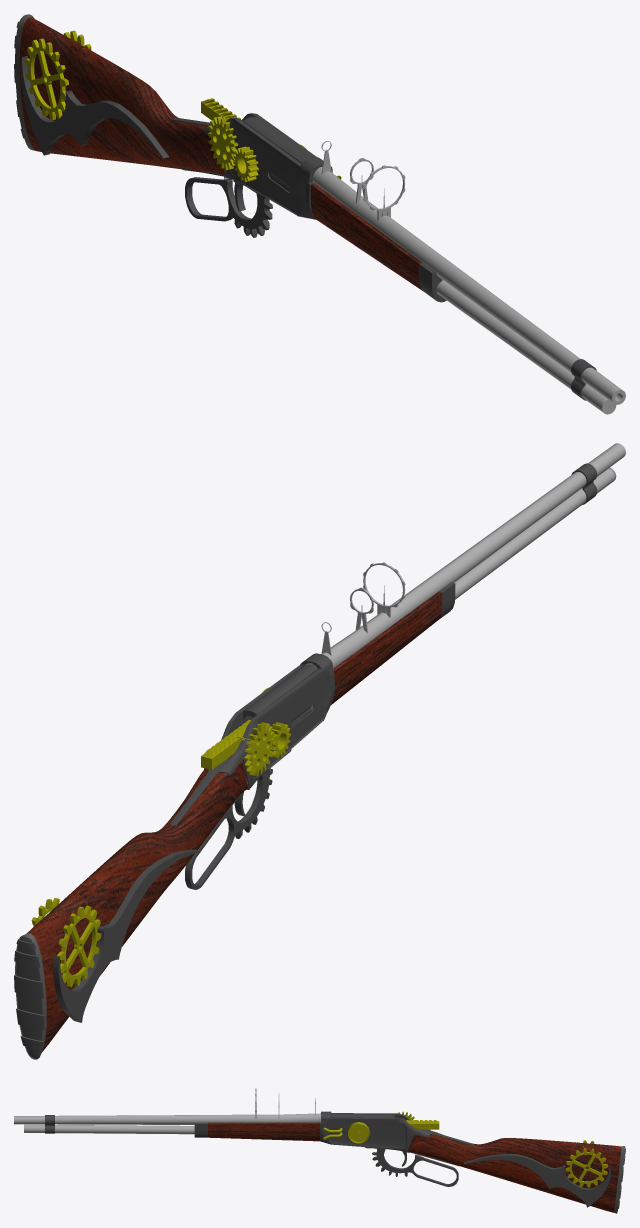
The model's file is steampunkrifle.fbx.
3 views of the same model, one above another, from view 1: azimuth 30°, elevation 25°; view 2: azimuth 150°, elevation 25°; view 3: azimuth 270°, elevation 25° (orthographic). The views are drawn at different scales.
Parts seen in each view (by area): view 1: pCube2, polySurface7, pPlane3, polySurface10, polySurface6, polySurface2, polySurface11, pCube6, pGear2, pCube1, pGear3, polySurface5; view 2: pCube2, polySurface7, pPlane3, polySurface10, polySurface6, polySurface2, polySurface11, pCube6, pGear2, pCube1, pCube10; view 3: pCube2, polySurface7, pPlane3, polySurface6, polySurface13, polySurface2, pCube6, polySurface11, pCylinder3, pCube10, pCube1, polySurface5.
Boxes of the visible parts, x1,y1,x2,y2 form: pCube2: [14, 14, 224, 175]; polySurface7: [312, 166, 625, 404]; pPlane3: [170, 113, 332, 219]; polySurface10: [20, 56, 168, 158]; polySurface6: [310, 183, 423, 291]; polySurface2: [436, 279, 606, 411]; polySurface11: [25, 30, 91, 120]; pCube6: [185, 177, 272, 237]; pGear2: [207, 116, 238, 170]; pCube1: [243, 117, 312, 163]; pGear3: [233, 146, 258, 182]; polySurface5: [419, 262, 446, 302]; pCube2: [14, 755, 247, 1059]; polySurface7: [305, 443, 625, 668]; pPlane3: [170, 653, 334, 825]; polySurface10: [52, 849, 200, 1022]; polySurface6: [331, 591, 442, 704]; polySurface2: [310, 468, 614, 707]; polySurface11: [27, 898, 101, 987]; pCube6: [185, 768, 272, 889]; pGear2: [244, 722, 275, 776]; pCube1: [243, 665, 317, 720]; pCube10: [201, 720, 250, 769]; pCube2: [407, 1129, 625, 1213]; polySurface7: [14, 1113, 320, 1124]; pPlane3: [320, 1111, 473, 1152]; polySurface6: [208, 1122, 319, 1141]; polySurface13: [464, 1154, 610, 1207]; polySurface2: [25, 1124, 194, 1134]; pCube6: [372, 1148, 458, 1186]; polySurface11: [565, 1140, 608, 1187]; pCylinder3: [348, 1122, 369, 1143]; pCube10: [406, 1120, 439, 1129]; pCube1: [331, 1113, 394, 1117]; polySurface5: [194, 1122, 207, 1137].
Size of the model in its own units: 1.48 by 7.74 by 34.63.
